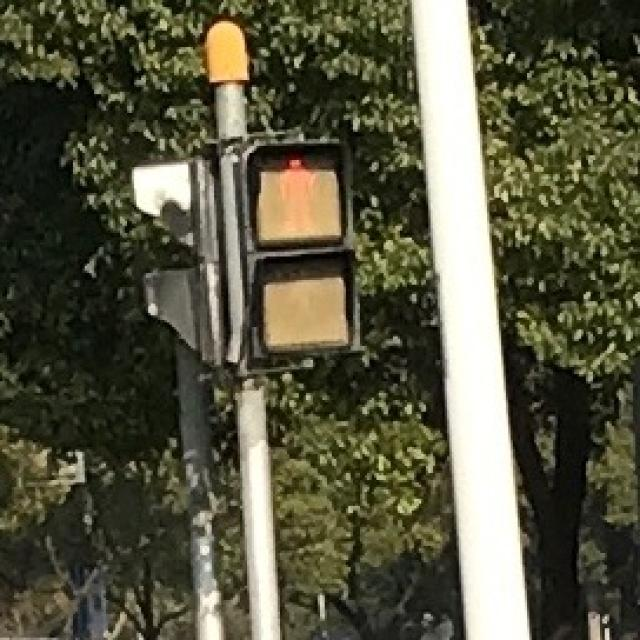red_light: (254, 144, 339, 242)
